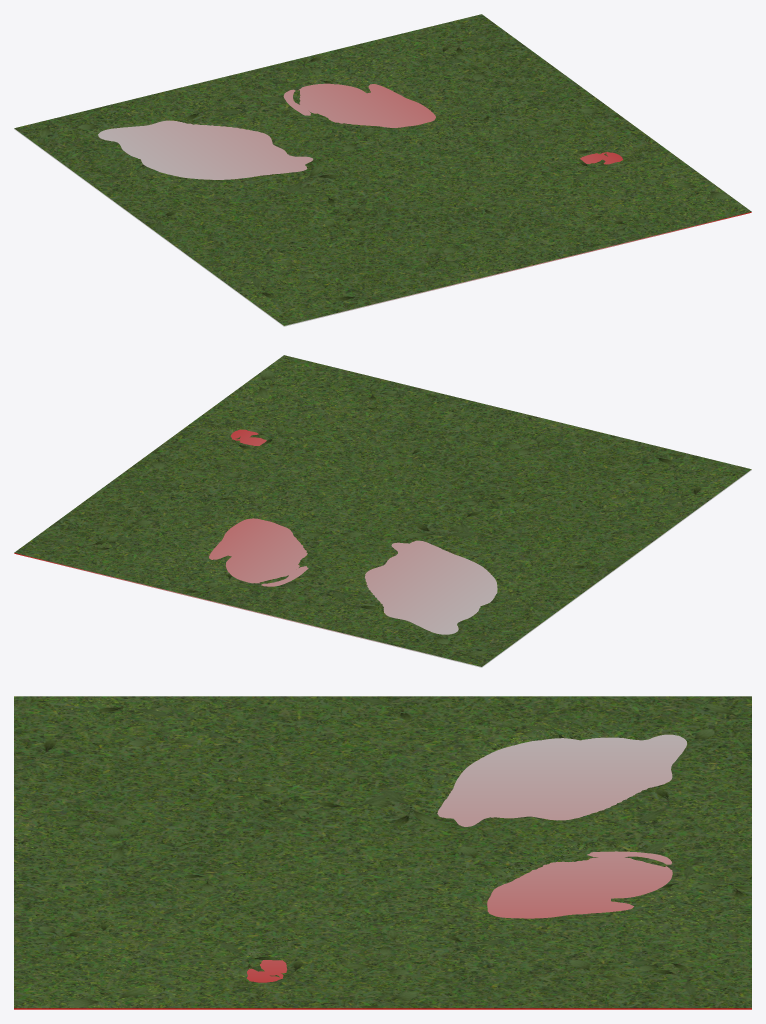
Rendered from 21644_autosave_fixed.fbx.
3 views of the same model, one above another, from view 1: azimuth 30°, elevation 25°; view 2: azimuth 150°, elevation 25°; view 3: azimuth 270°, elevation 25° (orthographic). The views are drawn at different scales.
Visible parts, largest first — view 1: 平面, 平面.001; view 2: 平面, 平面.001; view 3: 平面, 平面.001.
Part boxes in pixels (bbox=[...]): 平面: bbox=[14, 14, 751, 325]; 平面.001: bbox=[14, 83, 751, 326]; 平面: bbox=[14, 355, 751, 666]; 平面.001: bbox=[14, 429, 751, 667]; 平面: bbox=[14, 696, 751, 1008]; 平面.001: bbox=[14, 734, 751, 1009].
Bounding box in the file's own units: 20000 × 558 × 20000.
